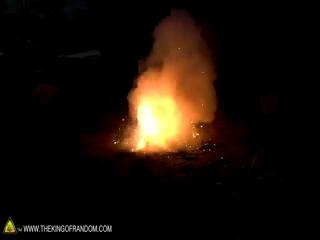Fire: (133, 92, 184, 149)
